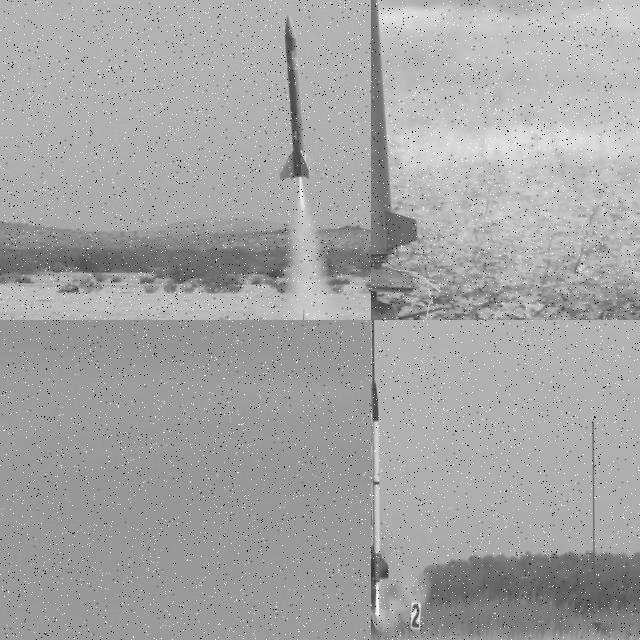Rocket: (371, 0, 422, 270), (278, 12, 322, 180), (371, 380, 389, 584)
